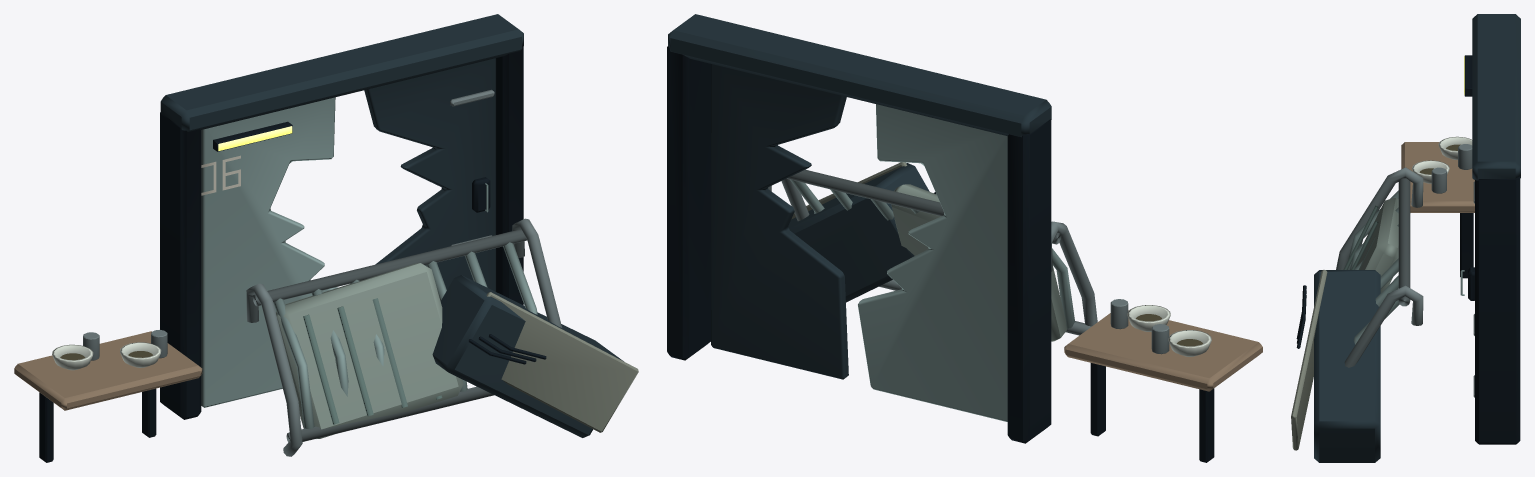
The model's file is cabin.glb.
The picture shows the model from 3 angles, left to right: view 1: azimuth 30°, elevation 25°; view 2: azimuth 150°, elevation 25°; view 3: azimuth 270°, elevation 25°; orthographic projection. The views are drawn at different scales.
Parts seen in each view (by area): view 1: last-cabin--e9-body, last-cabin--e9-trim, last-cabin--p11-tint, last-cabin--e9-dark, last-cabin--p11-steel, last-cabin--p11-tint-metal, last-cabin--e9-ceramic; view 2: last-cabin--e9-body, last-cabin--e9-trim, last-cabin--e9-dark, last-cabin--p11-tint, last-cabin--p11-steel, last-cabin--e9-ceramic; view 3: last-cabin--e9-body, last-cabin--e9-dark, last-cabin--p11-tint, last-cabin--p11-steel, last-cabin--p11-tint-metal, last-cabin--e9-trim, last-cabin--e9-ceramic.
Boxes of the visible parts, x1,y1,x2,y2 form: last-cabin--e9-body: (160,14,623,437); last-cabin--e9-trim: (201,97,537,428); last-cabin--p11-tint: (14,155,463,438); last-cabin--e9-dark: (39,47,546,462); last-cabin--p11-steel: (83,89,562,456); last-cabin--p11-tint-metal: (486,292,638,432); last-cabin--e9-ceramic: (52,342,161,370); last-cabin--e9-body: (668,14,1051,379); last-cabin--e9-trim: (790,104,1074,421); last-cabin--e9-dark: (667,46,1214,462); last-cabin--p11-tint: (891,184,1262,391); last-cabin--p11-steel: (768,169,1169,354); last-cabin--e9-ceramic: (1127,305,1211,356); last-cabin--e9-body: (1314,14,1520,462); last-cabin--e9-dark: (1296,55,1520,444); last-cabin--p11-tint: (1343,142,1474,292); last-cabin--p11-steel: (1336,144,1474,397); last-cabin--p11-tint-metal: (1291,270,1327,450); last-cabin--e9-trim: (1347,190,1464,344); last-cabin--e9-ceramic: (1412,136,1472,183).
Bounding box in the file's own units: 5.15 × 3.22 × 2.17.
